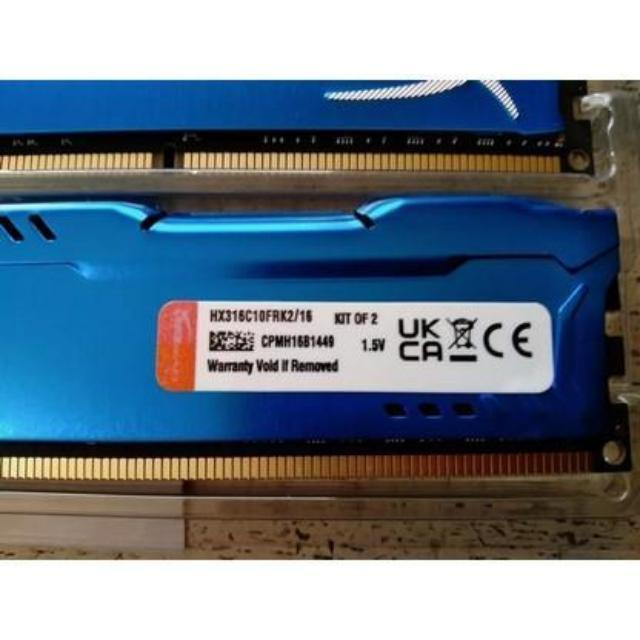RAM: (0, 184, 640, 507), (0, 52, 597, 190)
